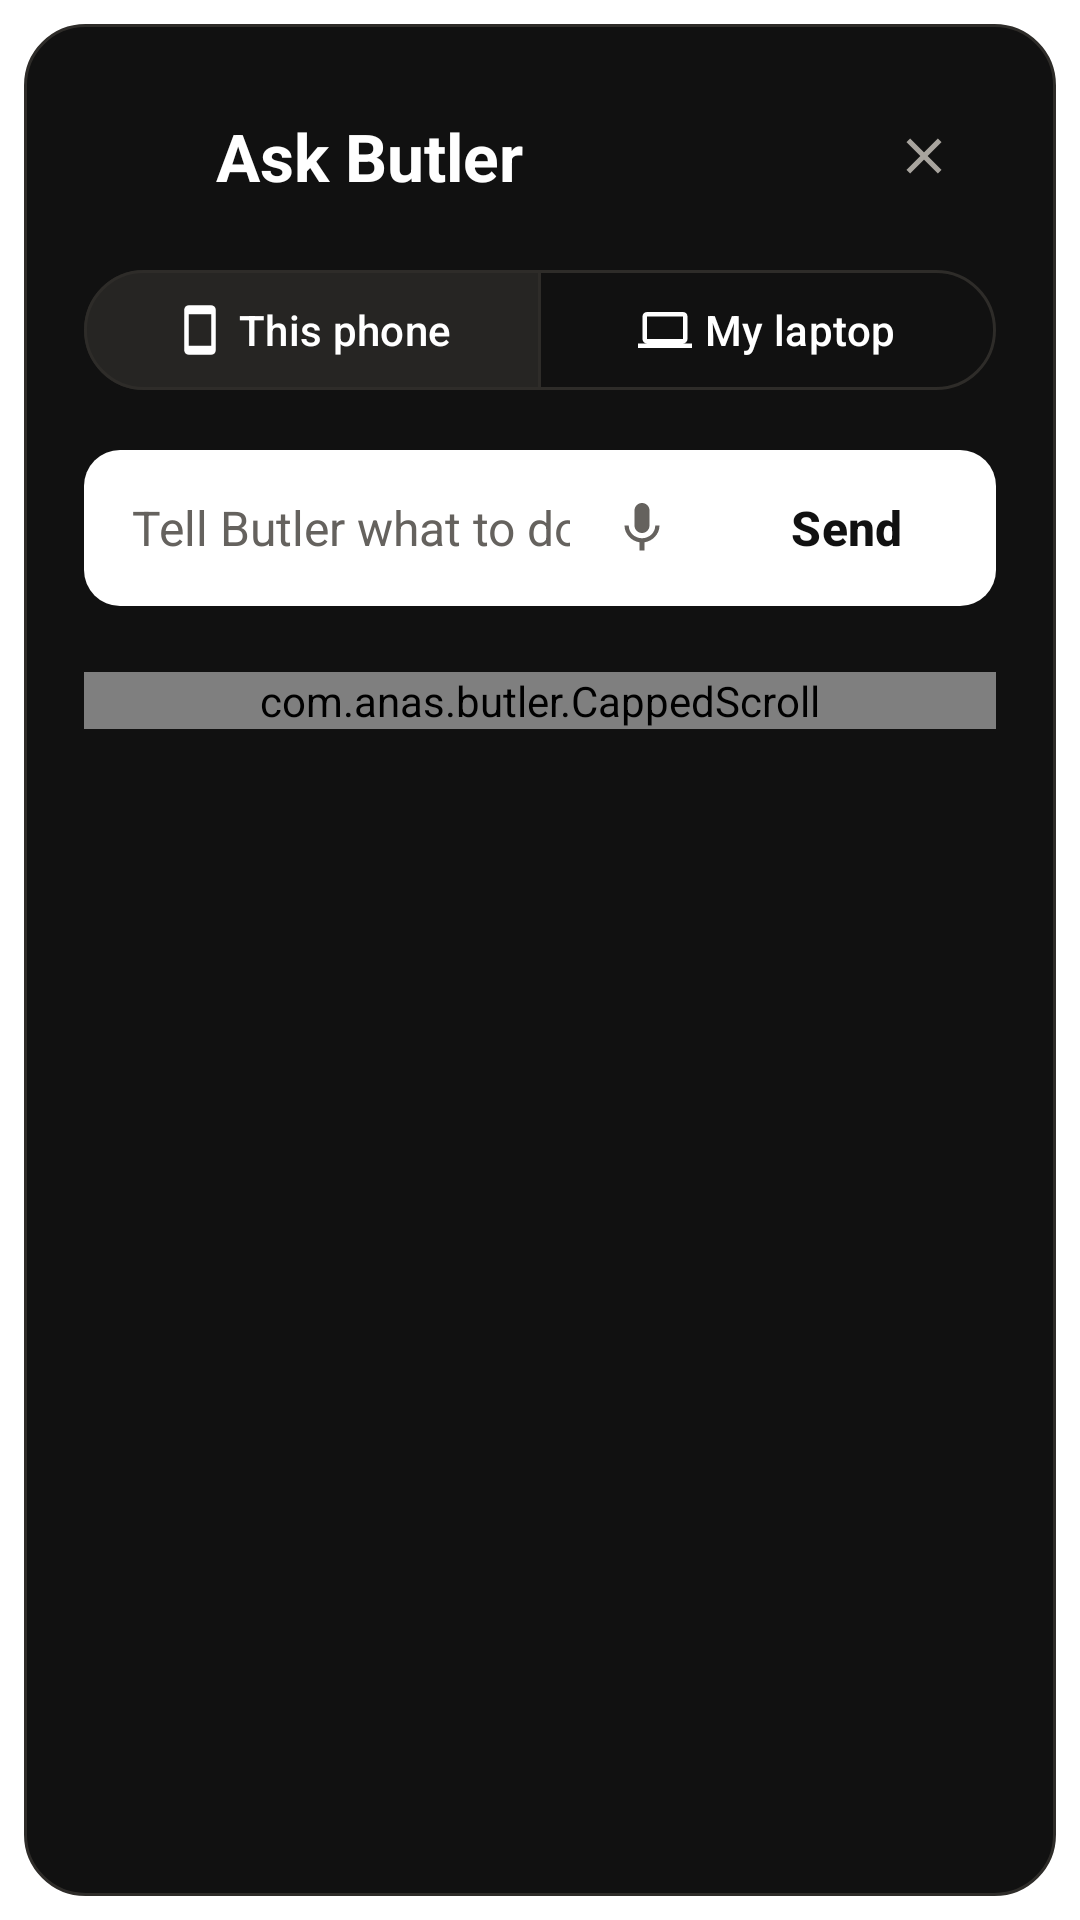

Named icons in this screenshot (1080 × 1920) and their centers, (x=x, y=y):
Close: (x=924, y=156)
